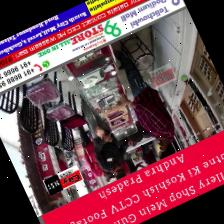person: (113, 50, 174, 158), (79, 96, 132, 178), (77, 125, 115, 182), (123, 152, 143, 172), (140, 143, 155, 164), (121, 160, 128, 175)
